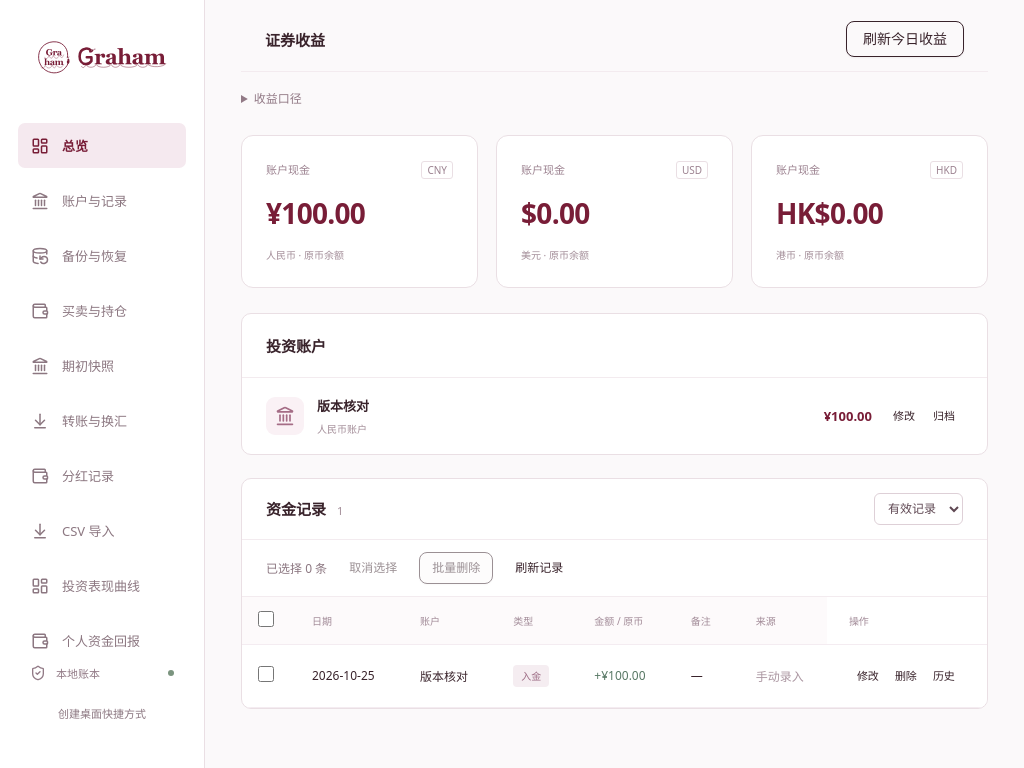
Test: 入金编辑过期时保留输入，可在弹窗内刷新后重新选择最新记录
(page scrolled)
Click the button with aria-label "修改记录" at (868, 676), box [849, 661, 887, 691]
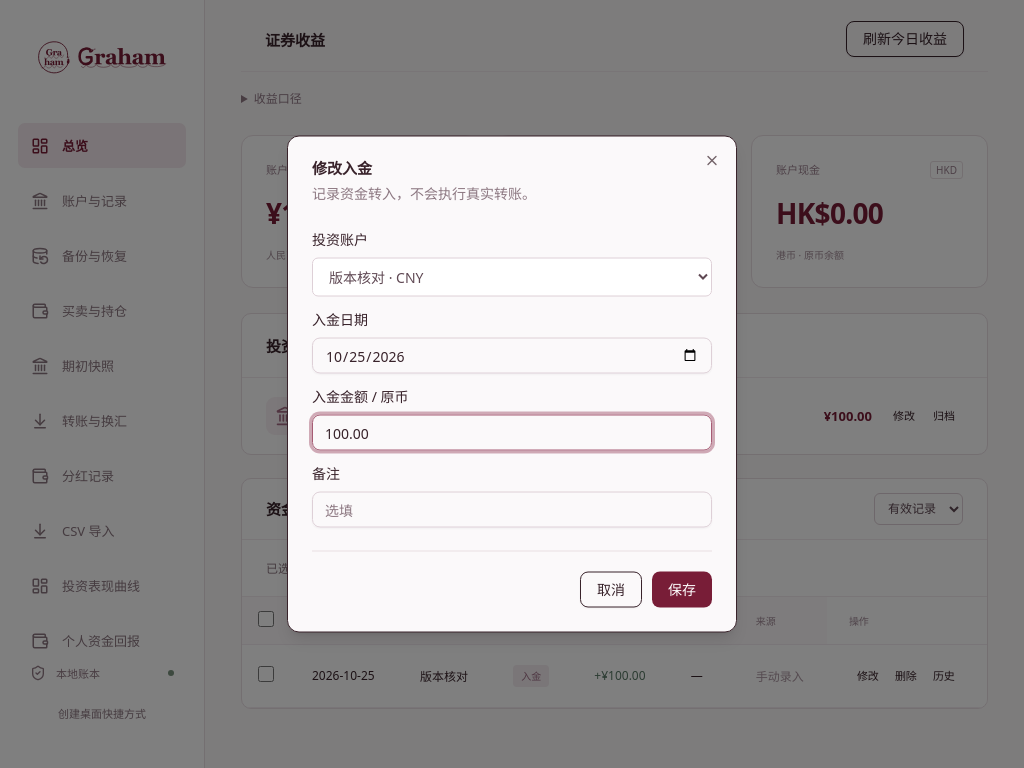
Replace the text in the field labelled "入金金额 / 原币" with "300" at (512, 432), box [312, 414, 712, 450]
Click the button "保存" at (682, 590), box [652, 572, 712, 608]
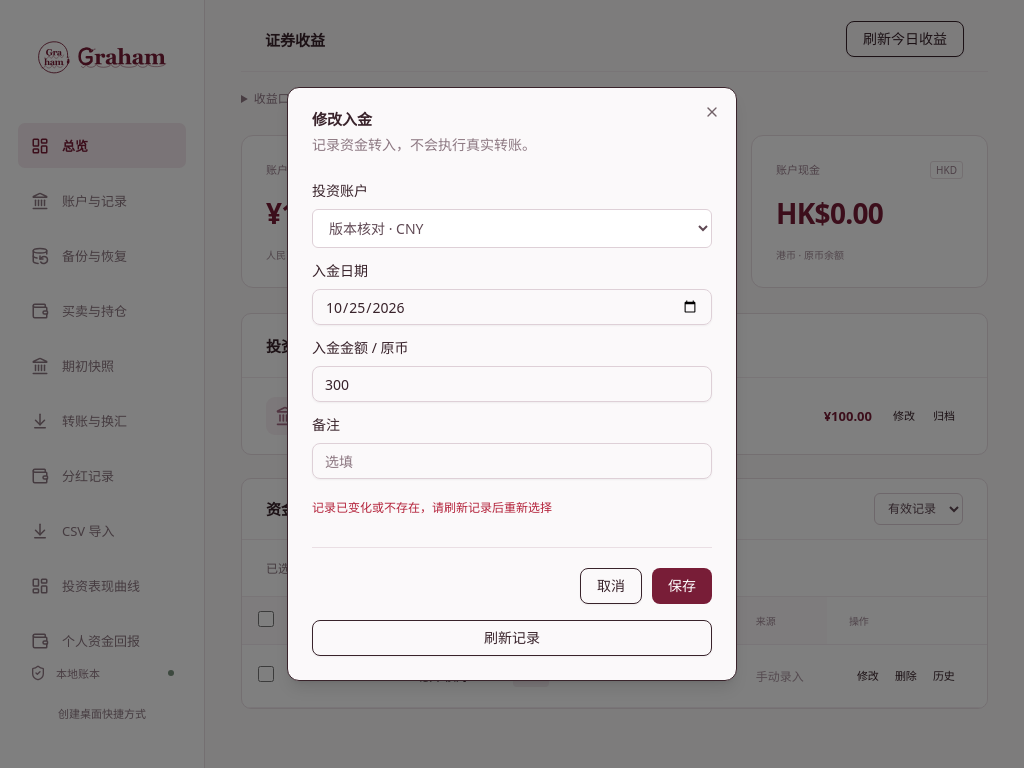
Expected: the message shows "请刷新记录后重新选择", [312, 499, 552, 516]
Click the button "刷新记录" at (512, 638), box [312, 620, 712, 656]
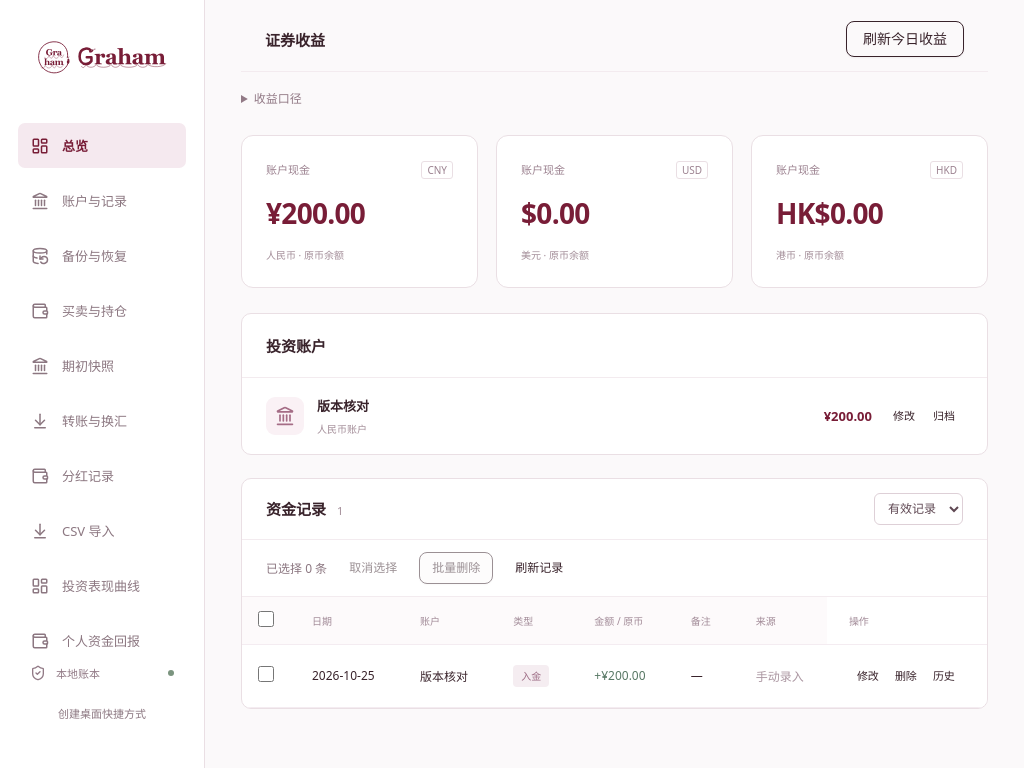
Expected: the text "+¥200.00" is shown, [572, 644, 669, 707]
Click the button with aria-label "修改记录" at (868, 676), box [849, 661, 887, 691]
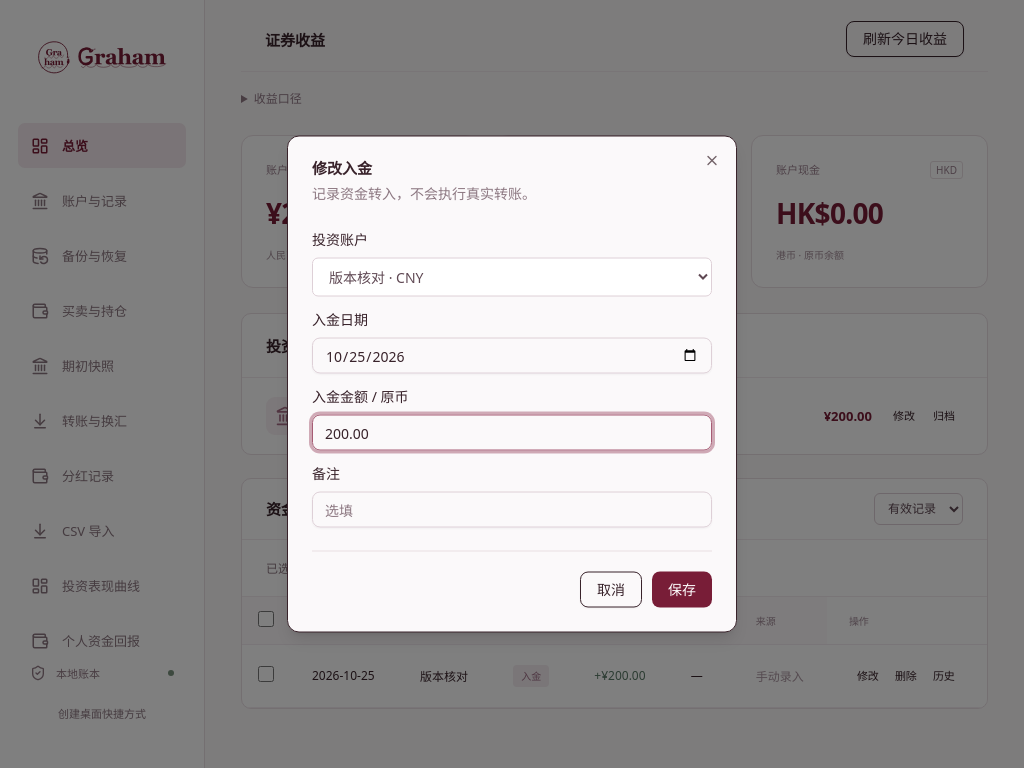
Replace the text in the field labelled "入金金额 / 原币" with "300" at (512, 432), box [312, 414, 712, 450]
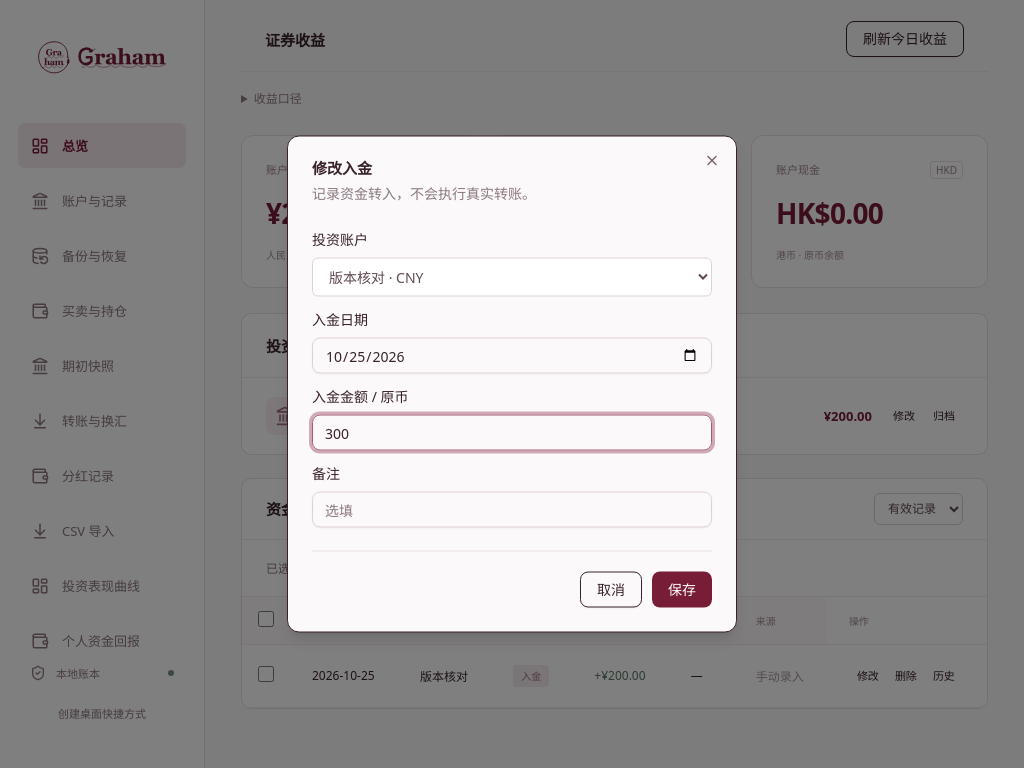
Click the button "保存" at (682, 590), box [652, 572, 712, 608]
(page scrolled)
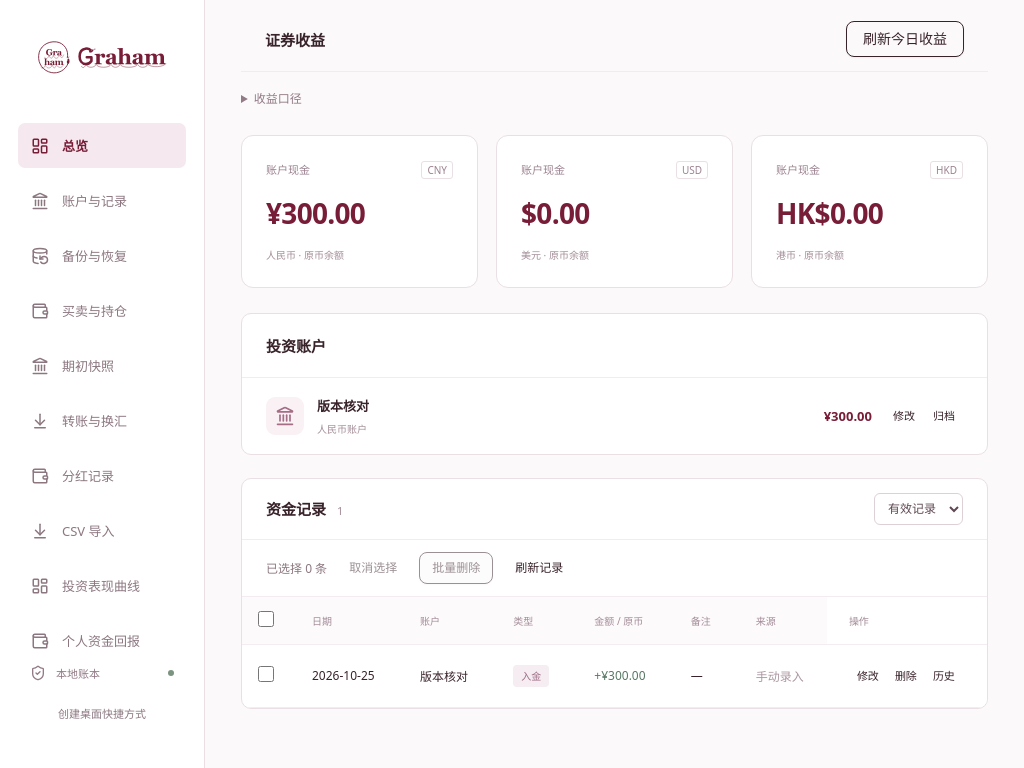
Expected: the text "+¥300.00" is shown, [572, 644, 669, 707]
